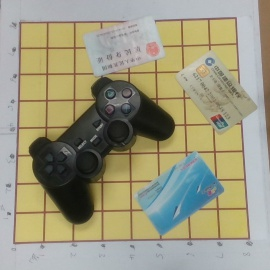card: (132, 151, 225, 235), (174, 48, 258, 134), (81, 13, 166, 77)
remote: (27, 77, 173, 226)
